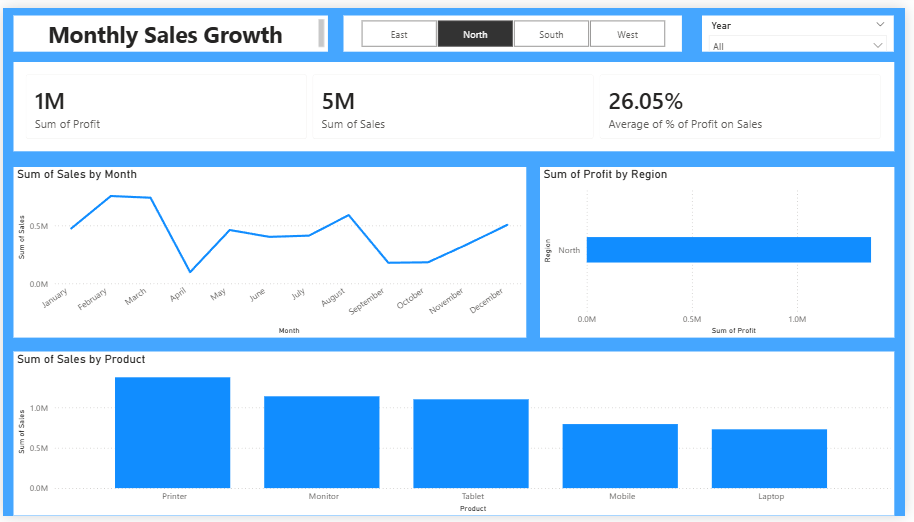

The dashboard page shown, as its layout file describes it:
{"tool":"powerbi","page":{"name":"Page 1","canvas":[1280,720],"ordinal":0},"visuals":[{"type":"cardVisual","fields":{"Data":["Sum(salesdb sales_data.Profit)","Sum(salesdb sales_data.Sales)","Avg(salesdb sales_data.% of Profit on Sales)"]},"box":[15.1,75.6,1249.1,126.6],"z":0},{"type":"lineChart","fields":{"Y":["Sum(salesdb sales_data.Sales)"],"Category":["salesdb sales_data.Order_Date.Variation.Date Hierarchy.Month"]},"box":[15.1,224.9,727.6,241.9],"z":1000},{"type":"barChart","fields":{"Category":["salesdb sales_data.Region"],"Y":["Sum(salesdb sales_data.Profit)"]},"box":[761.6,224.9,502.7,241.9],"z":2000},{"type":"columnChart","fields":{"Category":["salesdb sales_data.Product"],"Y":["Sum(salesdb sales_data.Sales)"]},"box":[15.1,487.6,1249.1,232.4],"z":3000},{"type":"slicer","fields":{"Values":["salesdb sales_data.Order_Date.Variation.Date Hierarchy.Year"]},"box":[992.1,11.3,272.1,51],"z":5000},{"type":"slicer","fields":{"Values":["salesdb sales_data.Region"]},"box":[483.8,11.3,480,51],"z":6000},{"type":"textbox","box":[15.1,11.3,446,51],"z":6001}]}

Visuals, with their boxes in screenshot pixels (x1, y1, x2, y2), scaled from the page's 1280x720 canvas onto the 914x522 screenshot:
cardVisual - Sum(salesdb sales_data.Profit) x Sum(salesdb sales_data.Sales): [11, 55, 903, 147]
lineChart - Sum(salesdb sales_data.Sales) x salesdb sales_data.Order_Date.Variation.Date Hierarchy.Month: [11, 163, 530, 338]
barChart - salesdb sales_data.Region x Sum(salesdb sales_data.Profit): [544, 163, 903, 338]
columnChart - salesdb sales_data.Product x Sum(salesdb sales_data.Sales): [11, 354, 903, 521]
slicer - salesdb sales_data.Order_Date.Variation.Date Hierarchy.Year: [708, 8, 903, 45]
slicer - salesdb sales_data.Region: [345, 8, 688, 45]
textbox: [11, 8, 329, 45]
